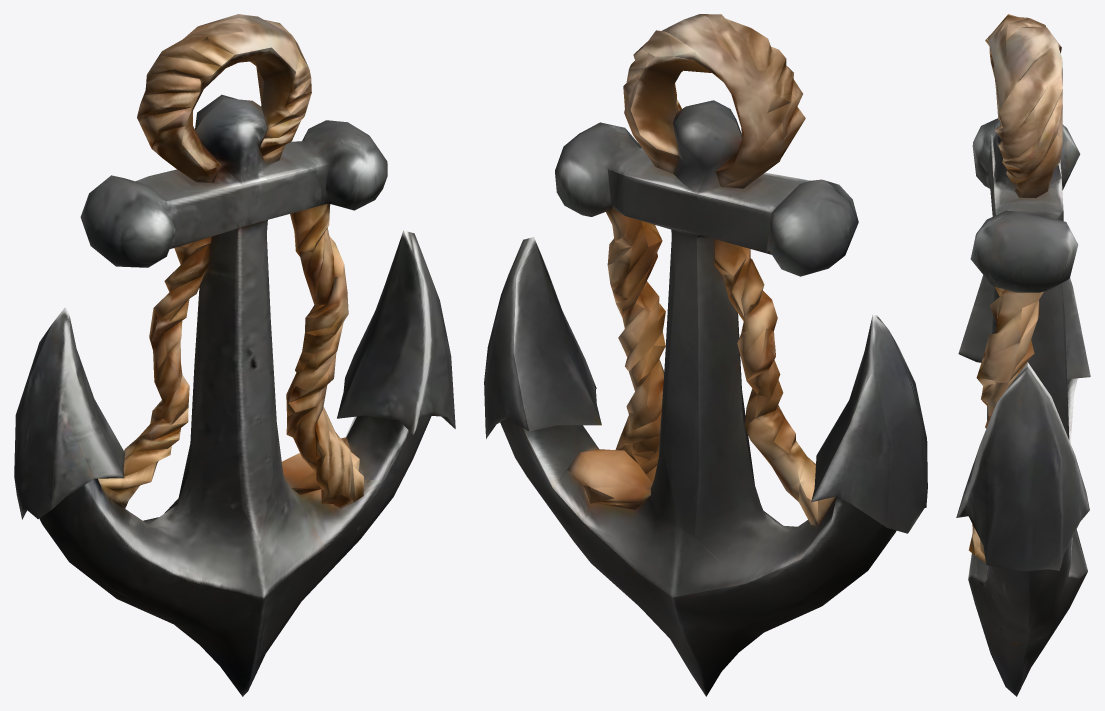
File: anchor.glb
3 renders of one model, left to right at view 1: azimuth 30°, elevation 25°; view 2: azimuth 150°, elevation 25°; view 3: azimuth 270°, elevation 25°, orthographic. The views are drawn at different scales.
Parts seen in each view (by area): view 1: model; view 2: model; view 3: model.
Part boxes in pixels (left/top/right/bottom): model: left=14, top=14, right=455, bottom=696; model: left=484, top=14, right=927, bottom=696; model: left=956, top=14, right=1090, bottom=696.
Size of the model in its own units: 1.28 by 1.91 by 0.3493.
1 material, 1 textured.
